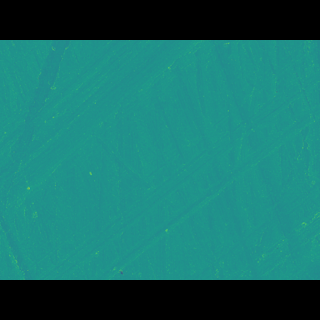Loch: (36, 93, 319, 250), (0, 70, 208, 198)
